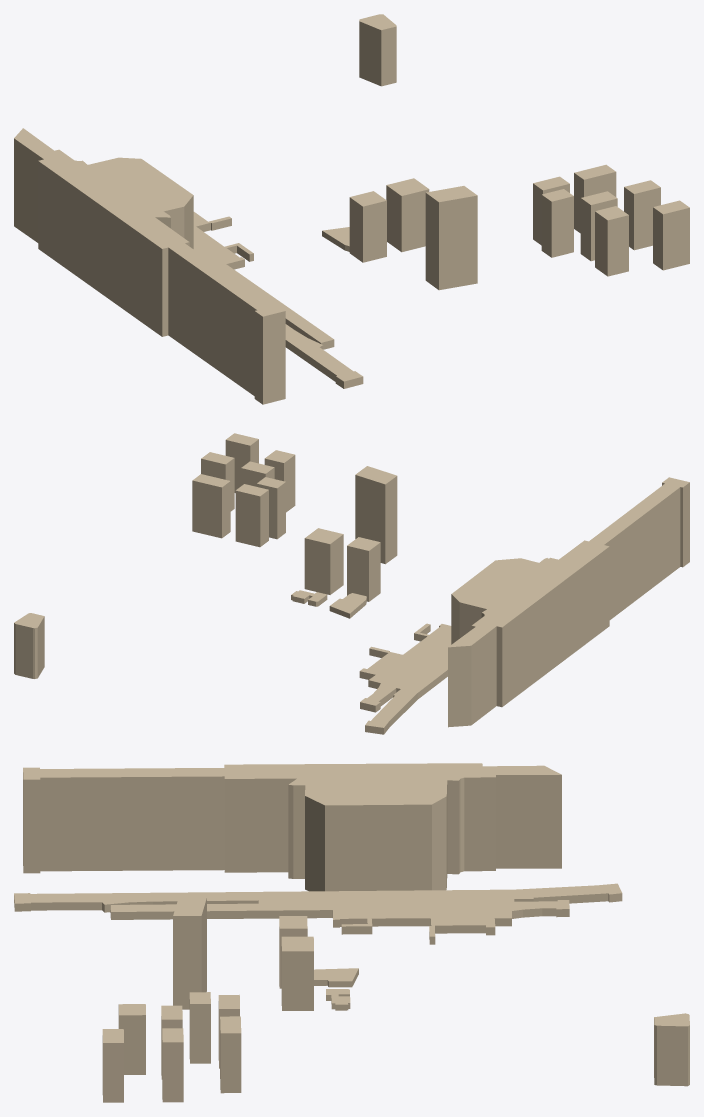
File: -14_0-estimated-coarse.glb
3 views of the same model, one above another, from view 1: azimuth 30°, elevation 25°; view 2: azimuth 150°, elevation 25°; view 3: azimuth 270°, elevation 25° (orthographic). The views are drawn at different scales.
Bounding box in the file's own units: 794 × 141 × 922.
